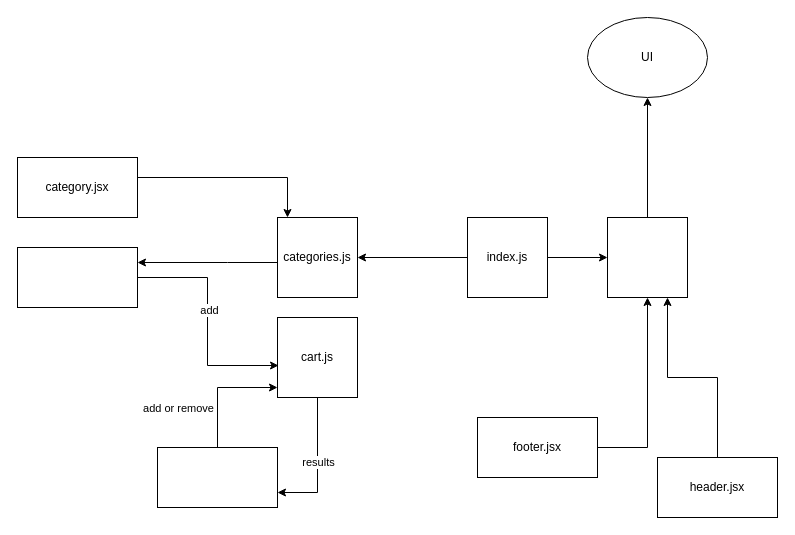
The diagram is 795 pixels wide and 535 high, and some of its shapes have lost their labels. Each missing label, with the box of its shape:
app.js: (606, 216, 688, 298)
product.jsx: (16, 246, 138, 308)
simplecart.jsx: (156, 446, 278, 508)
